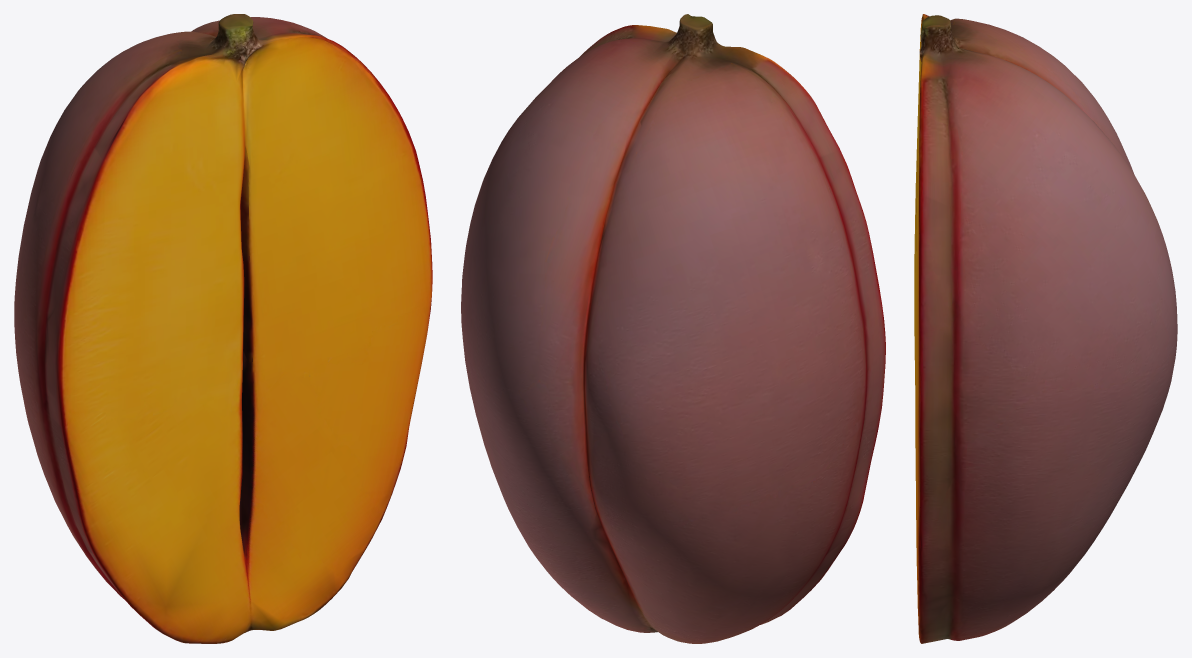
The model's file is f-mango-half.glb.
The picture shows the model from 3 angles, left to right: view 1: azimuth 30°, elevation 25°; view 2: azimuth 150°, elevation 25°; view 3: azimuth 270°, elevation 25°; orthographic projection. The views are drawn at different scales.
Parts seen in each view (by area): view 1: node_0; view 2: node_0; view 3: node_0.
Part boxes in pixels (bbox=[...]): node_0: bbox=[14, 14, 432, 643]; node_0: bbox=[461, 14, 885, 643]; node_0: bbox=[914, 14, 1177, 643].
Size of the model in its own units: 0.7205 by 1.12 by 0.4451.
1 material, 1 textured.
